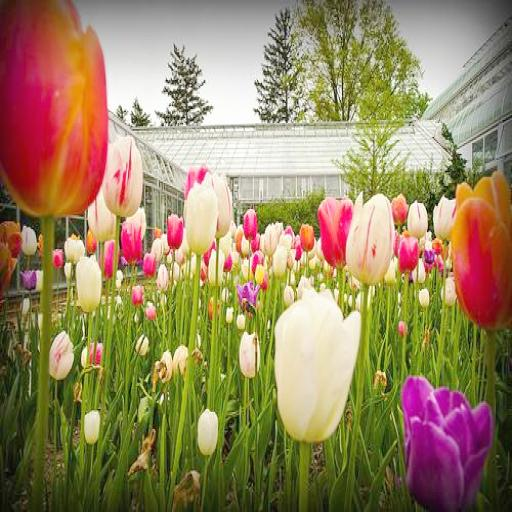tulip: (397, 375, 496, 512), (274, 296, 362, 440), (450, 172, 512, 335), (346, 190, 394, 290), (104, 134, 144, 220), (316, 196, 356, 270), (185, 180, 218, 261), (73, 255, 103, 312), (119, 215, 143, 266), (199, 404, 220, 460), (393, 232, 417, 277), (239, 330, 260, 376), (409, 197, 427, 235), (241, 208, 257, 238)
